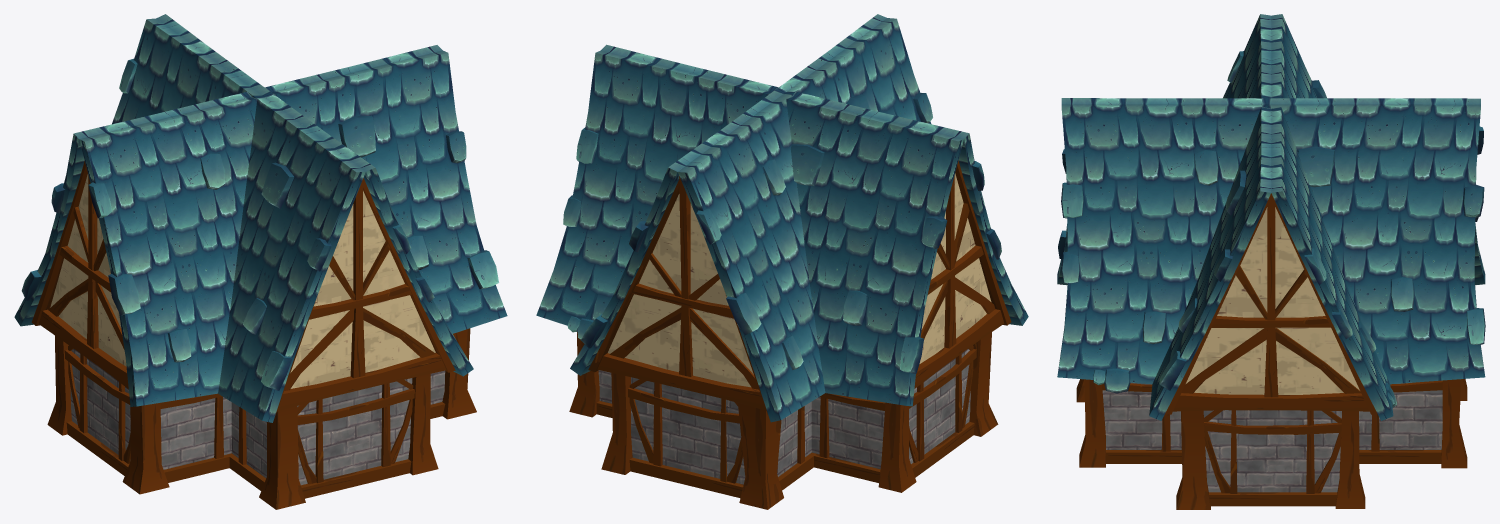
Rendered from SM_BLD_body_v07_01.glb.
3 renders of one model, left to right at view 1: azimuth 30°, elevation 25°; view 2: azimuth 150°, elevation 25°; view 3: azimuth 270°, elevation 25°, orthographic.
Visible parts, largest first — view 1: SM_BLD_body_v07_01_EXPORT; view 2: SM_BLD_body_v07_01_EXPORT; view 3: SM_BLD_body_v07_01_EXPORT.
Part boxes in pixels (x1,y1,x2,y2): SM_BLD_body_v07_01_EXPORT: [14, 14, 507, 509]; SM_BLD_body_v07_01_EXPORT: [536, 14, 1028, 509]; SM_BLD_body_v07_01_EXPORT: [1057, 14, 1485, 509].
Bounding box in the file's own units: 12.88 × 10.78 × 12.88.
4 materials, 4 textured.
